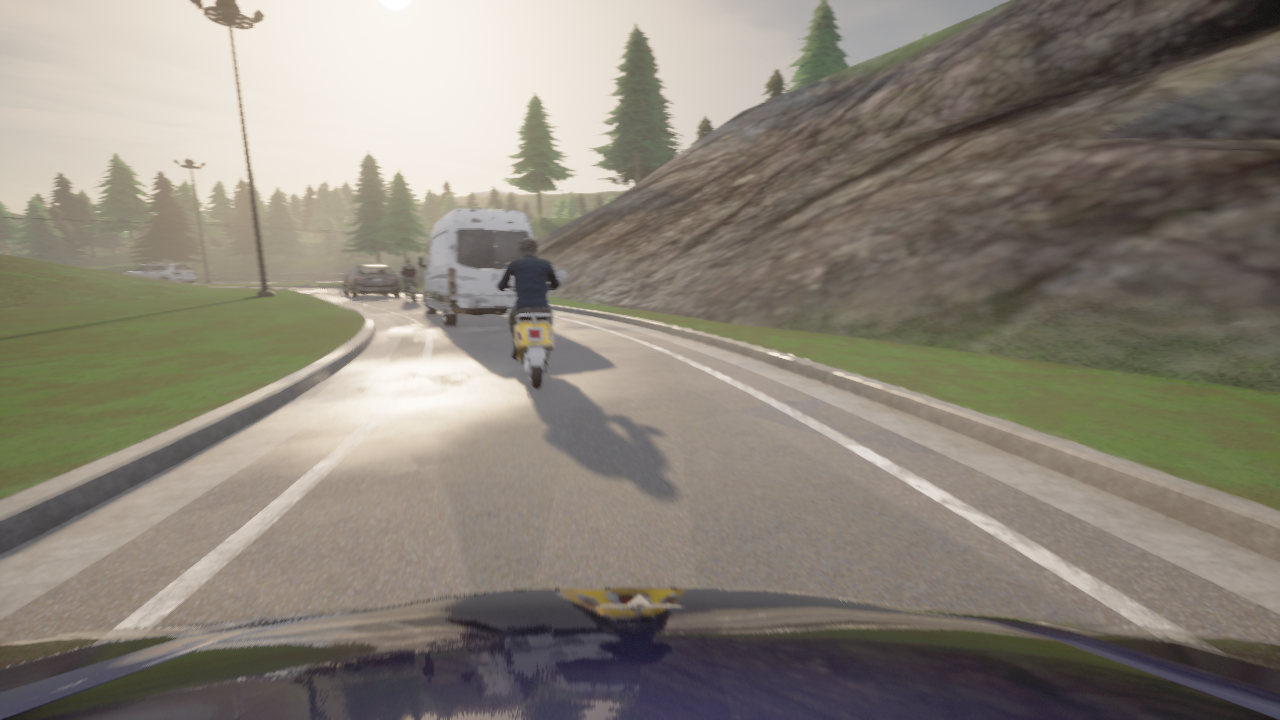cyclist: (0, 588, 1279, 719), (417, 208, 535, 326), (491, 270, 564, 389), (342, 264, 399, 297), (122, 264, 196, 283), (405, 283, 415, 303)
